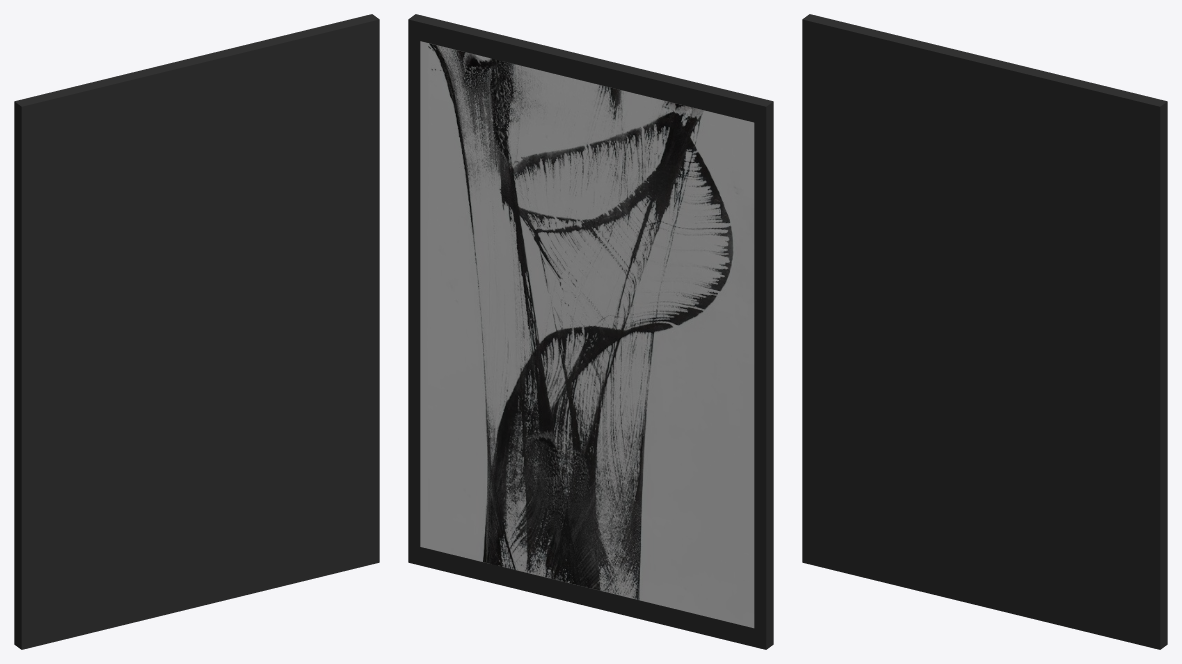
Rendered from painting2.dae.
3 renders of one model, left to right at view 1: azimuth 30°, elevation 25°; view 2: azimuth 150°, elevation 25°; view 3: azimuth 330°, elevation 25°, orthographic.
Parts seen in each view (by area): view 1: Cube; view 2: Cube; view 3: Cube.
Part boxes in pixels (x1,y1,x2,y2): Cube: [14, 14, 379, 649]; Cube: [408, 14, 773, 649]; Cube: [802, 14, 1167, 649].
Bounding box in the file's own units: 0.4 × 0.0144 × 0.58.
